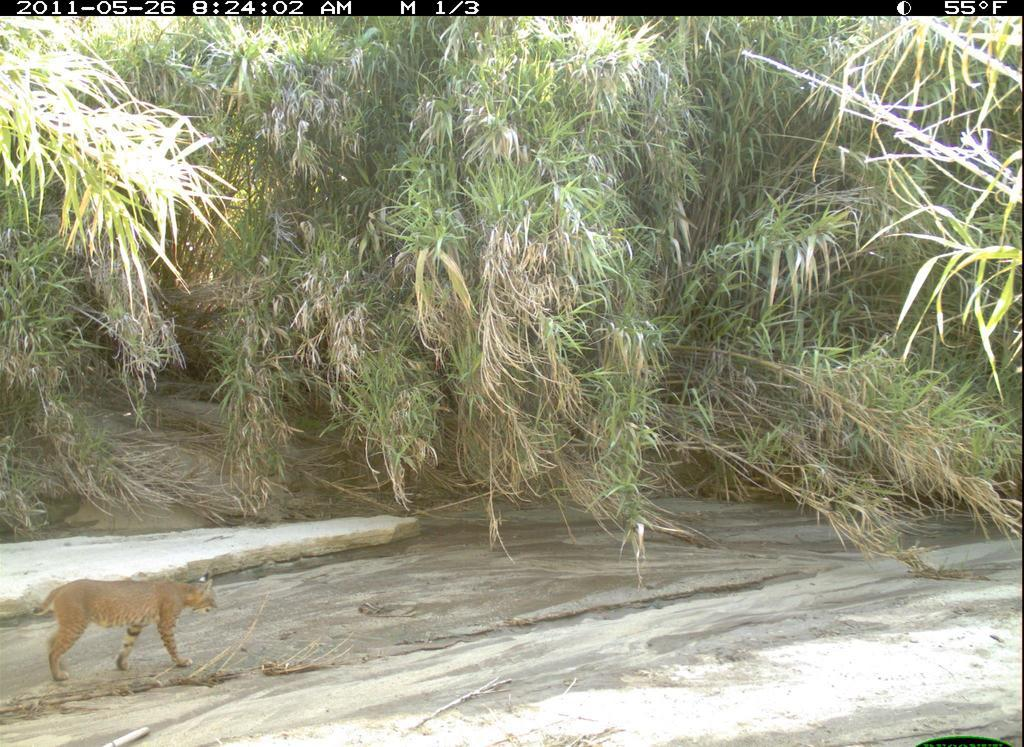bobcat: (25, 570, 223, 688)
